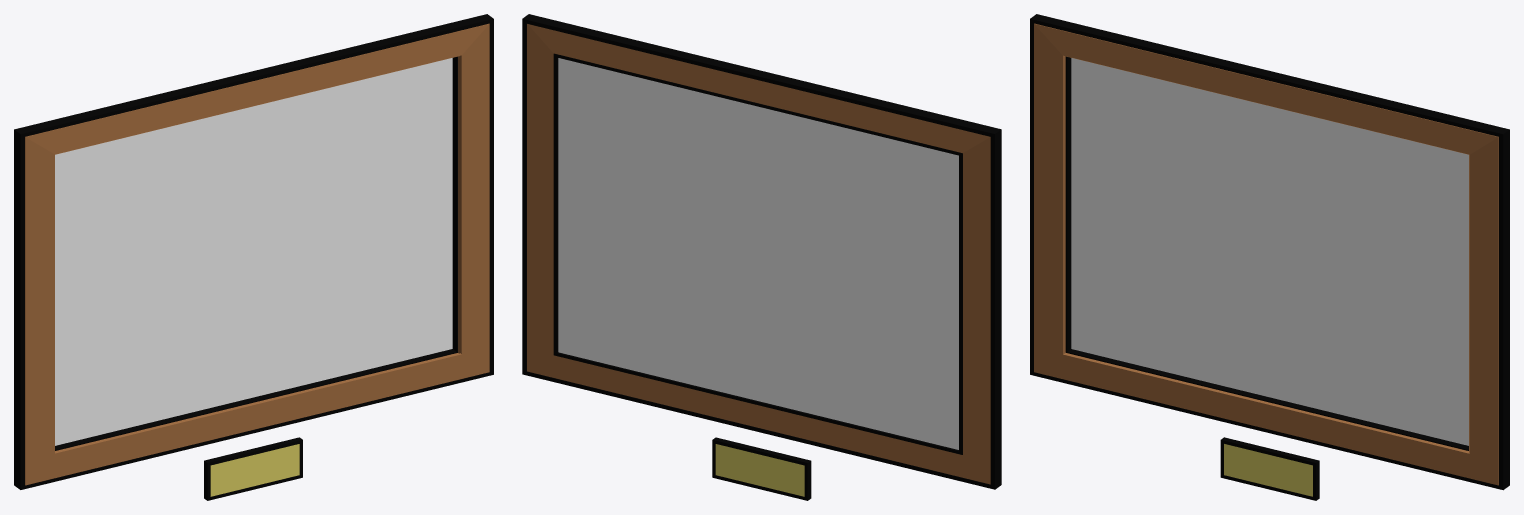
The model's file is tableau-paysage-grand.glb.
3 renders of one model, left to right at view 1: azimuth 30°, elevation 25°; view 2: azimuth 150°, elevation 25°; view 3: azimuth 330°, elevation 25°, orthographic.
Parts seen in each view (by area): view 1: Cube; view 2: Cube; view 3: Cube.
Part boxes in pixels (left/top/right/bottom): Cube: left=14, top=14, right=493, bottom=500; Cube: left=522, top=14, right=1001, bottom=500; Cube: left=1030, top=14, right=1509, bottom=500.
Size of the model in its own units: 3.41 by 2.85 by 0.0984.
